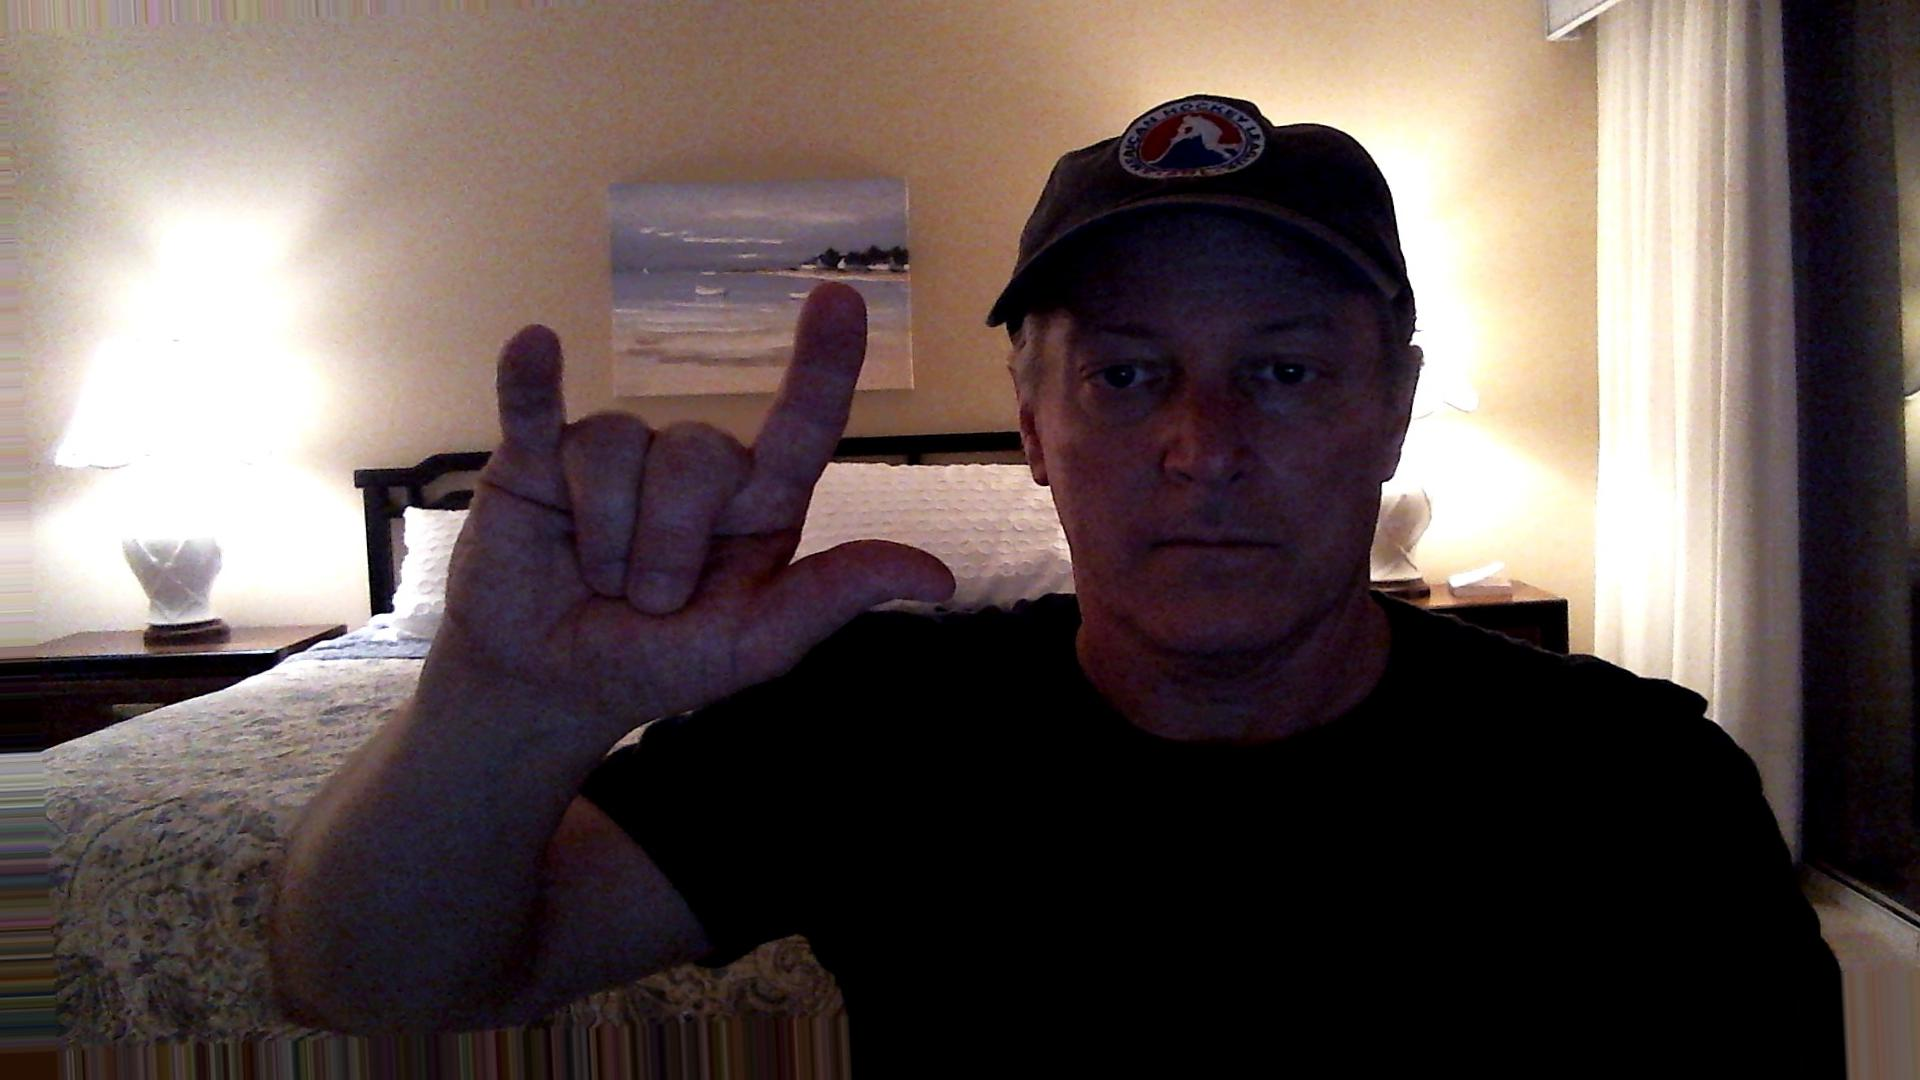I Love You: (438, 276, 963, 717)
